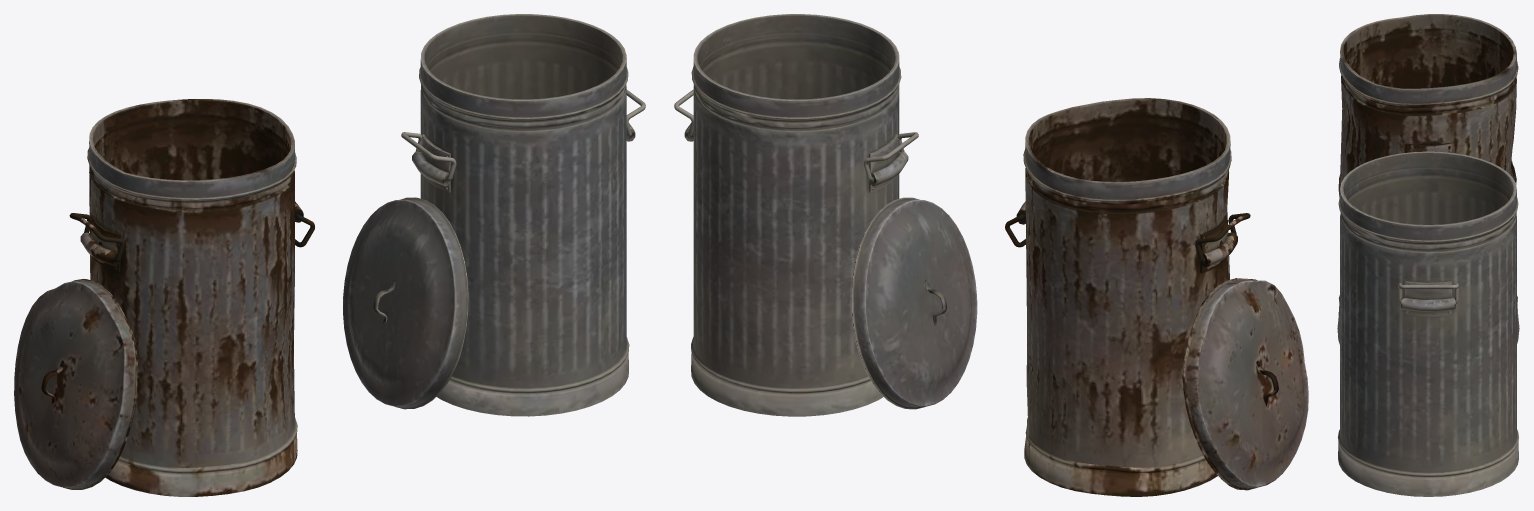
Rendered from metal_trash_can.glb.
3 renders of one model, left to right at view 1: azimuth 30°, elevation 25°; view 2: azimuth 150°, elevation 25°; view 3: azimuth 270°, elevation 25°, orthographic. The views are drawn at different scales.
Visible parts, largest first — view 1: metal_trash_can, metal_trash_can_rust, metal_trash_can_lid, metal_trash_can_rust_lid; view 2: metal_trash_can, metal_trash_can_rust, metal_trash_can_lid, metal_trash_can_rust_lid; view 3: metal_trash_can, metal_trash_can_rust, metal_trash_can_handle_right.
Part boxes in pixels (left/top/right/bottom): metal_trash_can: left=412, top=14, right=635, bottom=416; metal_trash_can_rust: left=80, top=99, right=303, bottom=496; metal_trash_can_lid: left=343, top=197, right=468, bottom=409; metal_trash_can_rust_lid: left=14, top=279, right=137, bottom=489; metal_trash_can: left=684, top=14, right=908, bottom=416; metal_trash_can_rust: left=1016, top=98, right=1237, bottom=496; metal_trash_can_lid: left=851, top=197, right=977, bottom=409; metal_trash_can_rust_lid: left=1183, top=278, right=1308, bottom=490; metal_trash_can: left=1337, top=151, right=1518, bottom=496; metal_trash_can_rust: left=1338, top=14, right=1518, bottom=316; metal_trash_can_handle_right: left=1398, top=283, right=1458, bottom=303.
Bounding box in the file's own units: 1.78 × 0.9062 × 0.5543.
2 materials, 2 textured.
